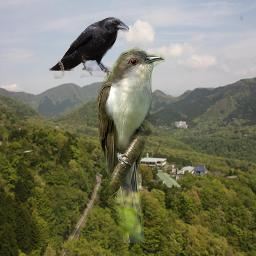Crow: (46, 16, 129, 79)
Cuckoo: (98, 44, 165, 243)
